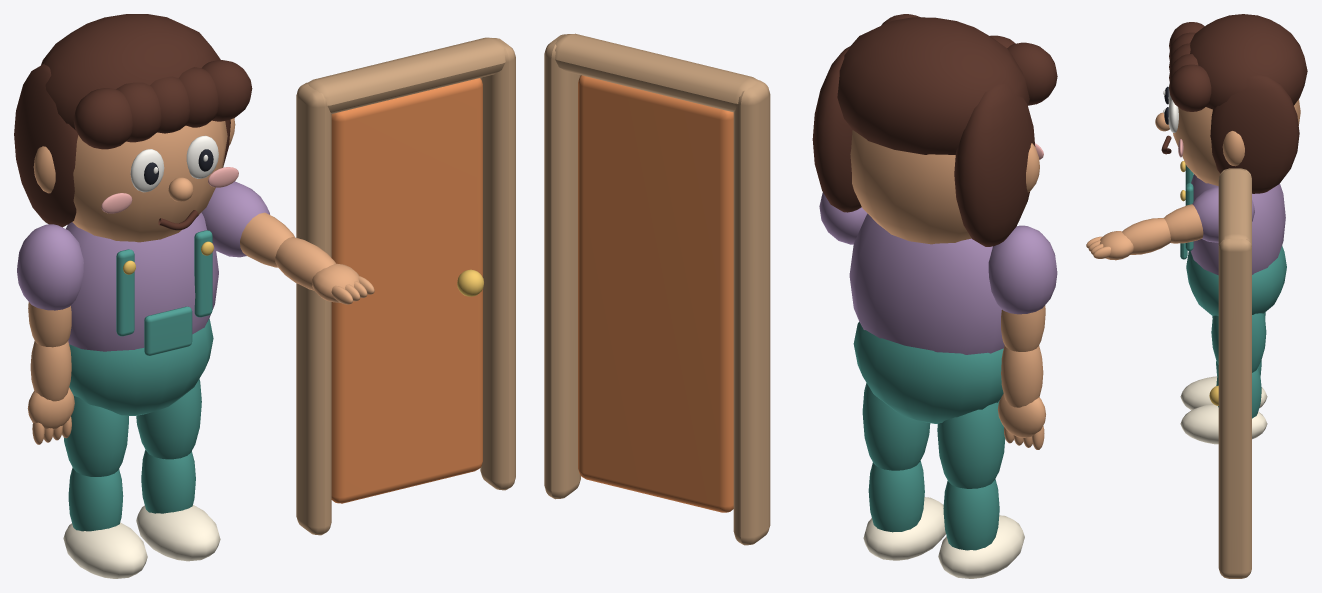
File: mommy-open.glb
3 renders of one model, left to right at view 1: azimuth 30°, elevation 25°; view 2: azimuth 150°, elevation 25°; view 3: azimuth 270°, elevation 25°, orthographic. The views are drawn at different scales.
Visible parts, largest first — view 1: door, door frame, door frame.001, soft shirt, clay head, hair cap, overalls, door frame.002, bob hair, shirt sleeve, trouser leg, little shoe.001 (+22 smaller); view 2: door, hair cap, door frame, soft shirt, door frame.001, bob hair, overalls, clay head, door frame.002, shirt sleeve, trouser leg, bob hair.001 (+10 smaller); view 3: door frame.001, hair cap, bob hair.001, soft shirt, overalls, clay head, door frame.002, fringe.004, little shoe.001, forearm.001, upper arm.001, shirt sleeve.001 (+8 smaller).
Part boxes in pixels (x1,y1,x2,y2): door: (331,78,482,503); door frame: (296,82,331,535); door frame.001: (480,38,515,490); soft shirt: (66,212,218,351); clay head: (72,120,227,242); hair cap: (41,14,220,129); overalls: (69,318,213,415); door frame.002: (306,37,505,113); bob hair: (14,63,78,227); shirt sleeve: (17,224,83,310); trouser leg: (63,396,128,476); little shoe.001: (136,505,220,561); door: (578,75,733,512); hair cap: (837,17,1029,154); door frame: (733,80,770,545); soft shirt: (849,213,1004,354); door frame.001: (544,34,580,499); bob hair: (954,84,1035,246); overalls: (853,321,1003,423); clay head: (850,130,971,244); door frame.002: (555,33,759,112); shirt sleeve: (988,225,1057,314); trouser leg: (937,400,1005,488); bob hair.001: (812,46,861,212); door frame.001: (1218,239,1251,578); hair cap: (1190,14,1307,109); bob hair.001: (1210,75,1299,193); soft shirt: (1190,174,1285,275); overalls: (1186,245,1286,315); clay head: (1173,99,1300,185); door frame.002: (1218,168,1251,245); fringe.004: (1169,64,1211,111); little shoe.001: (1180,404,1267,444); forearm.001: (1122,218,1170,254); upper arm.001: (1164,204,1203,243); shirt sleeve.001: (1192,186,1254,242).
Bounding box in the file's own units: 2.07 × 2.22 × 1.06.
